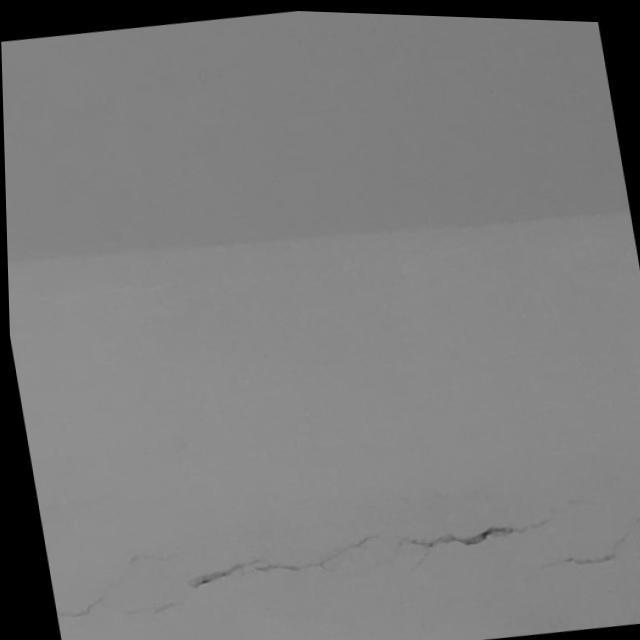Crack: (187, 511, 554, 595)
